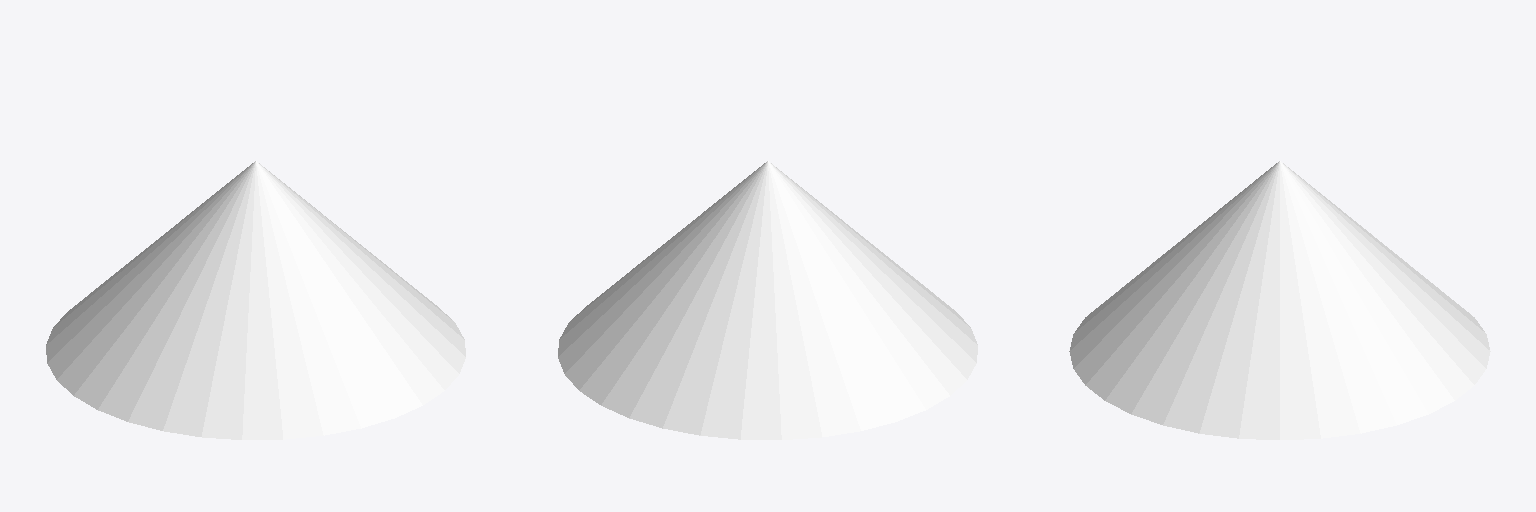
The model's file is arrow.obj.
3 views of the same model, side by side, from view 1: azimuth 30°, elevation 25°; view 2: azimuth 150°, elevation 25°; view 3: azimuth 270°, elevation 25° (orthographic).
Parts seen in each view (by area): view 1: Cylinder; view 2: Cylinder; view 3: Cylinder.
Boxes of the visible parts, <box> form: Cylinder: <box>46,161,465,439</box>; Cylinder: <box>558,161,977,439</box>; Cylinder: <box>1069,161,1490,439</box>.
Size of the model in its own units: 2 by 1 by 2.